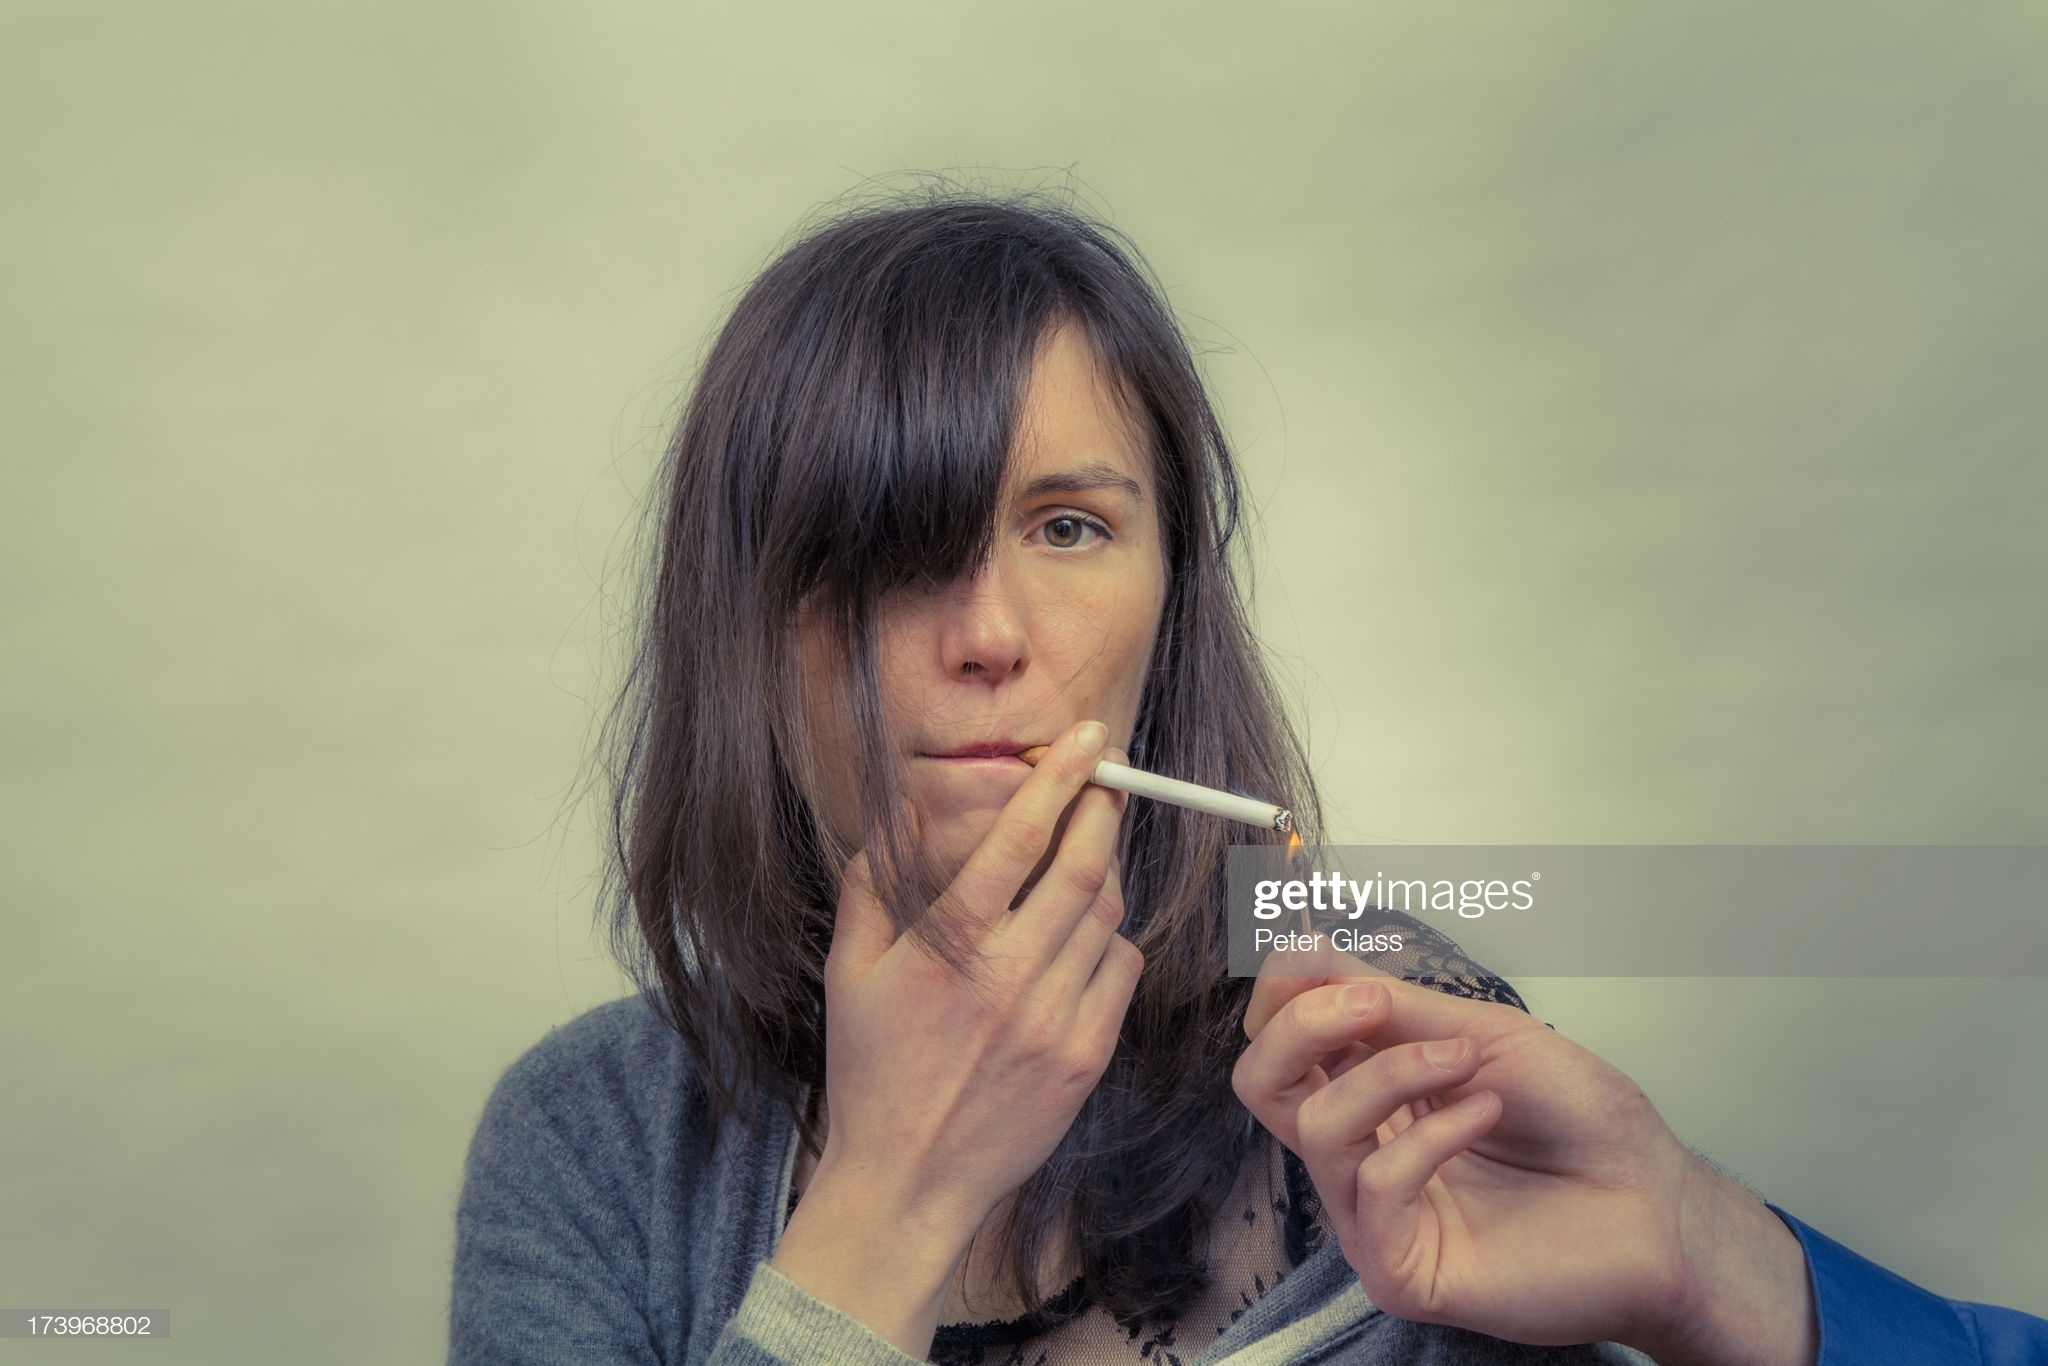sigaretta: (1032, 753, 1301, 845)
